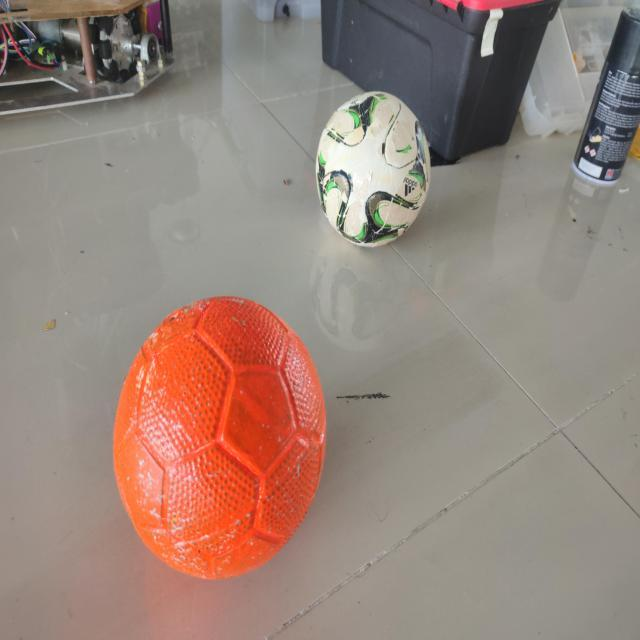bola: (101, 290, 336, 585)
